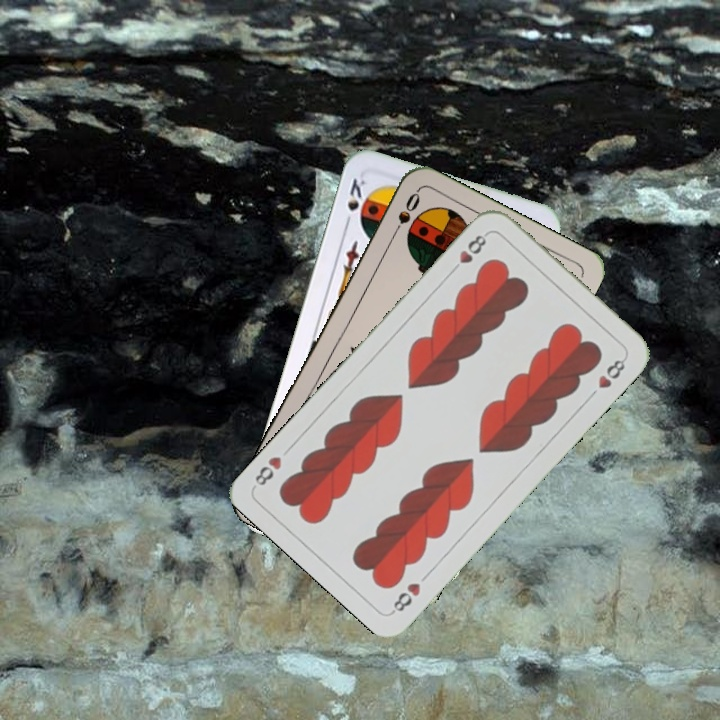H8: (446, 229, 491, 276), (388, 578, 424, 616)
SK: (340, 174, 370, 230)
SO: (387, 188, 423, 242)
